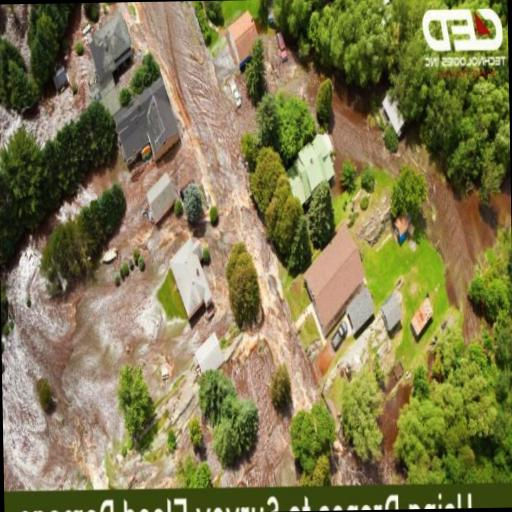flood: (138, 1, 318, 411), (1, 160, 198, 490), (331, 85, 496, 339), (219, 333, 297, 488), (0, 93, 79, 149), (265, 35, 320, 107)
house: (304, 228, 372, 356), (114, 77, 176, 167), (420, 5, 504, 54), (86, 8, 134, 90), (168, 240, 216, 322), (292, 131, 336, 205), (226, 8, 258, 68)
